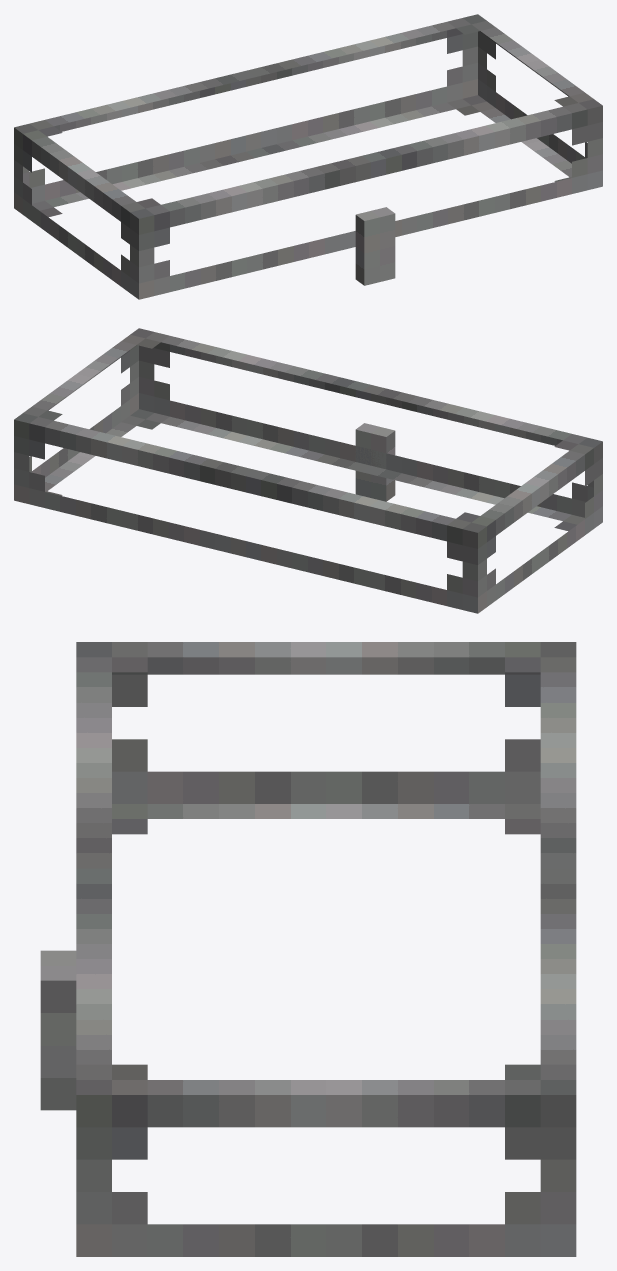
Rendered from reinforced_chest_lid_large_frame.obj.
The picture shows the model from 3 angles, top to bottom: view 1: azimuth 30°, elevation 25°; view 2: azimuth 150°, elevation 25°; view 3: azimuth 270°, elevation 25°; orthographic projection. The views are drawn at different scales.
Visible parts, largest first — view 1: reinforced_chest_lid_large_frame; view 2: reinforced_chest_lid_large_frame; view 3: reinforced_chest_lid_large_frame.
Part boxes in pixels (x1,y1,x2,y2): reinforced_chest_lid_large_frame: (14,14,602,299); reinforced_chest_lid_large_frame: (14,328,602,613); reinforced_chest_lid_large_frame: (40,642,576,1256).
Size of the model in its own units: 1.88 by 0.4375 by 0.9375.
